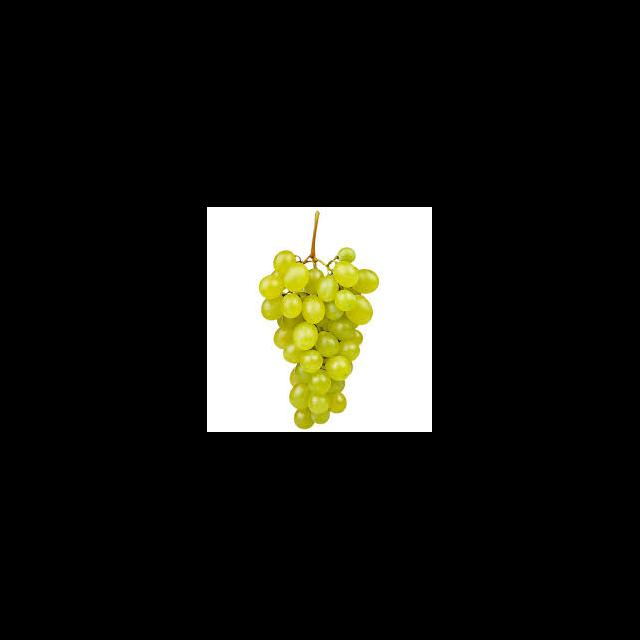grape: (258, 210, 379, 430)
